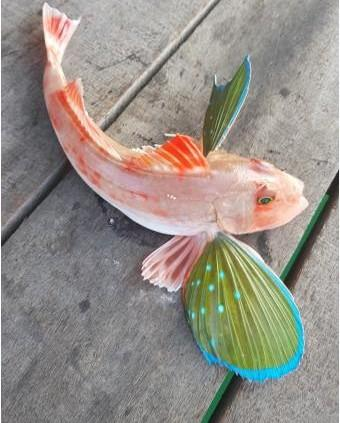fish: (42, 5, 308, 385)
